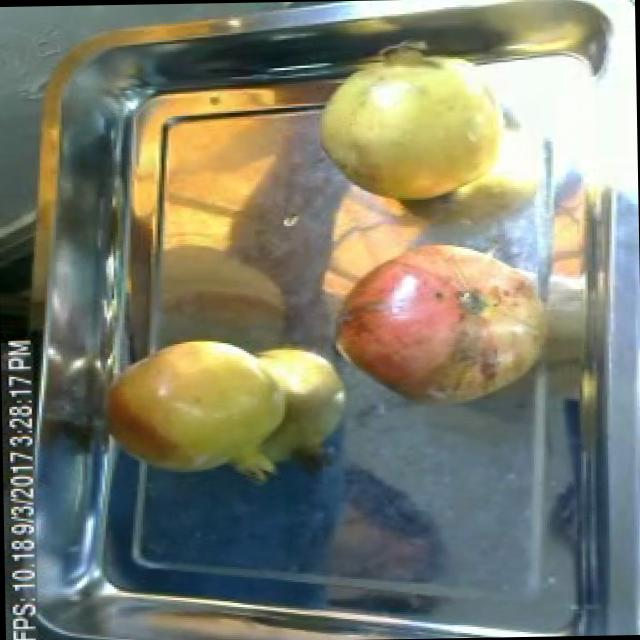fruit: (303, 32, 526, 210), (87, 326, 300, 488), (319, 241, 490, 414)
